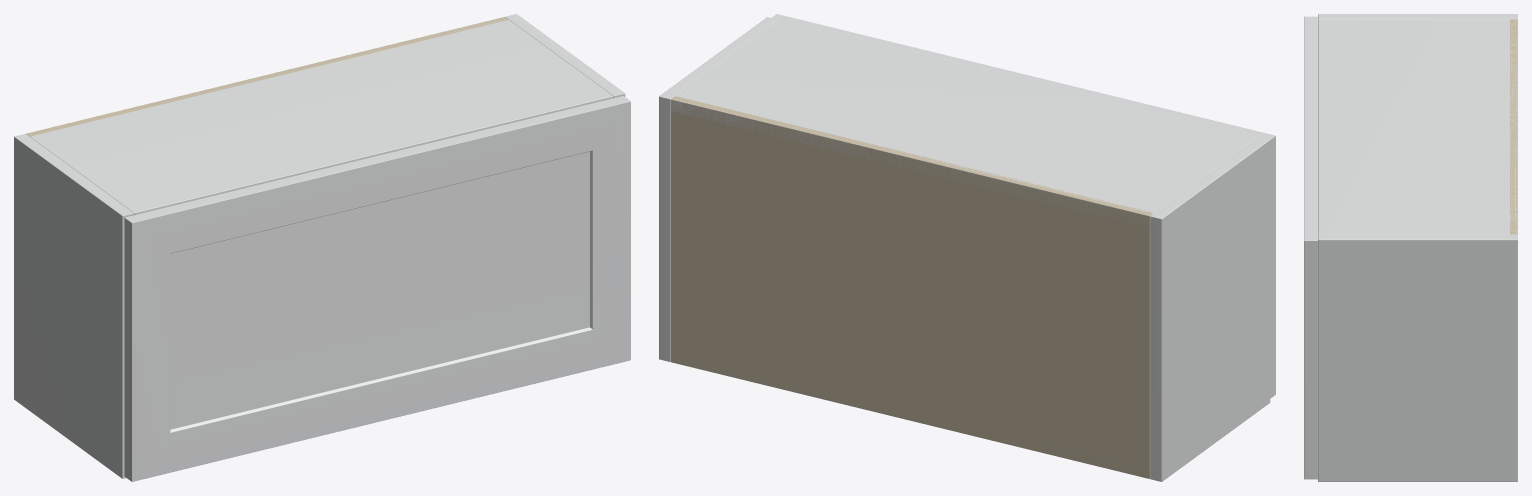
The model's file is PLY-WSS-WSL3015.glb.
3 views of the same model, side by side, from view 1: azimuth 30°, elevation 25°; view 2: azimuth 150°, elevation 25°; view 3: azimuth 270°, elevation 25° (orthographic). The views are drawn at different scales.
Visible parts, largest first — view 1: Shaker door, Carcass top, Carcass left, Carcass back, Carcass right; view 2: Carcass back, Carcass top, Carcass left, Shaker door, Carcass right, Carcass bottom; view 3: Carcass right, Carcass top, Shaker door, Carcass back, Carcass left.
Part boxes in pixels (x1,y1,x2,y2): Shaker door: (124,96,630,481); Carcass top: (27,18,613,215); Carcass left: (14,134,133,478); Carcass back: (26,17,508,136); Carcass right: (505,14,625,98); Carcass back: (671,96,1153,478); Carcass top: (671,20,1257,226); Carcass left: (1150,137,1270,481); Shaker door: (772,14,1275,398); Carcass right: (659,17,778,361); Carcass bottom: (671,361,1149,478); Carcass right: (1318,234,1517,481); Carcass top: (1318,19,1517,234); Shaker door: (1304,16,1317,479); Carcass back: (1510,19,1517,234); Carcass left: (1318,14,1517,19).
Size of the model in its own units: 0.762 by 0.381 by 0.3048.
